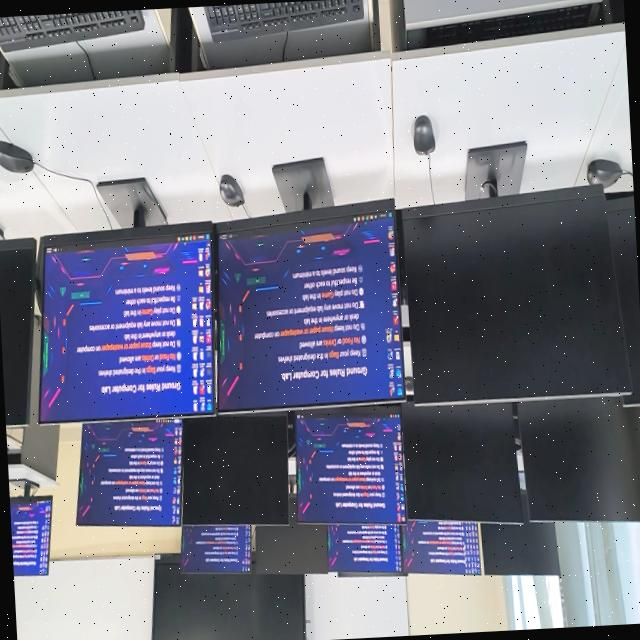Digital board: (151, 554, 304, 640)
Keyboard: (205, 0, 362, 41), (0, 9, 143, 51)
Monitor: (399, 185, 630, 404), (215, 199, 404, 412), (39, 226, 213, 423), (517, 397, 640, 521), (399, 402, 522, 522), (296, 405, 405, 524), (181, 414, 288, 523), (76, 419, 182, 525), (605, 193, 640, 406), (0, 238, 36, 425), (480, 494, 559, 574), (254, 494, 328, 573), (402, 520, 480, 575), (327, 525, 401, 572), (9, 495, 52, 575), (180, 525, 251, 572)
Mouse: (0, 141, 34, 172), (586, 159, 622, 187), (413, 115, 434, 154), (218, 174, 243, 206)
